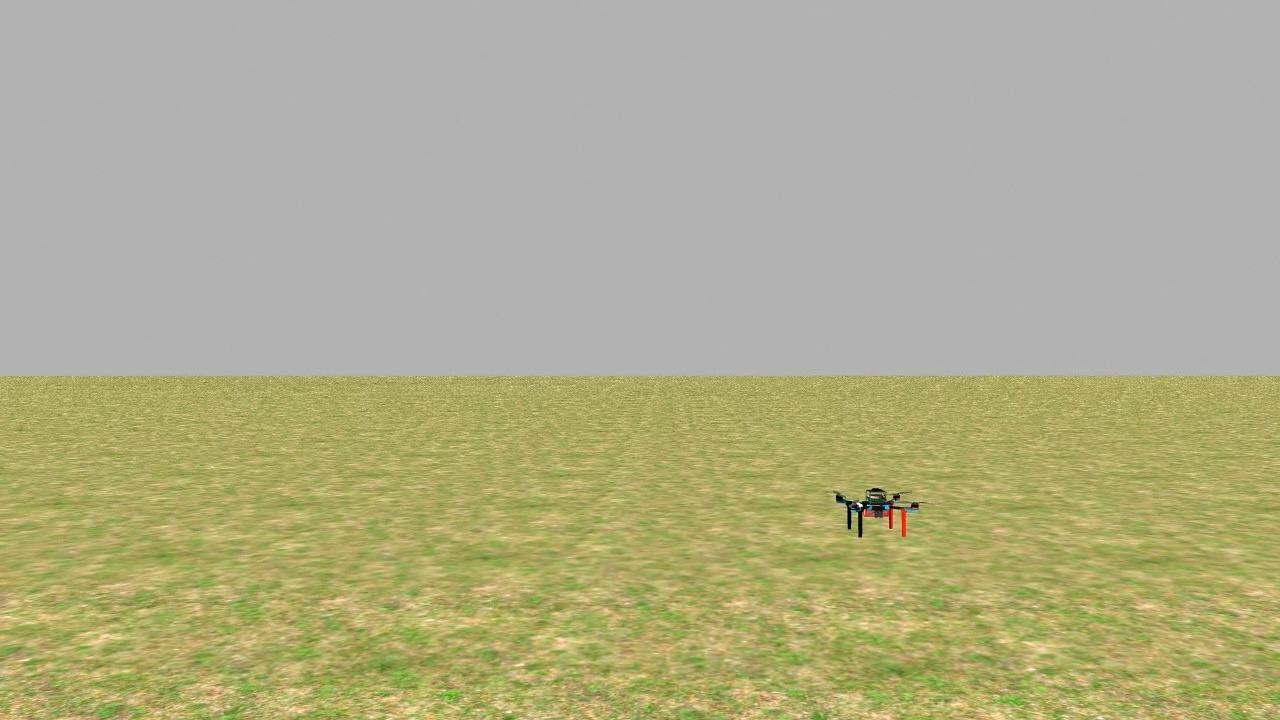UAV: (829, 473, 930, 548)
